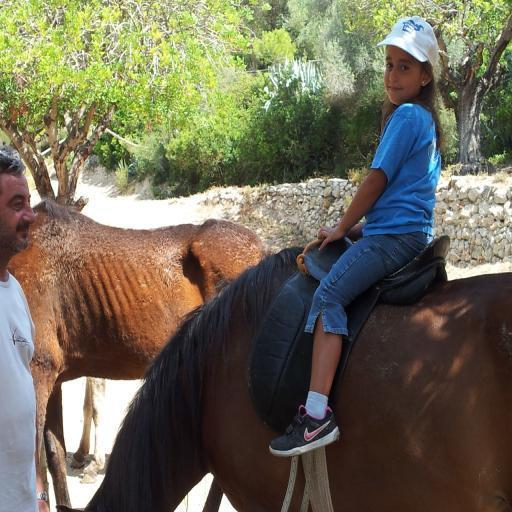horse: (50, 244, 510, 512), (5, 196, 274, 511)
